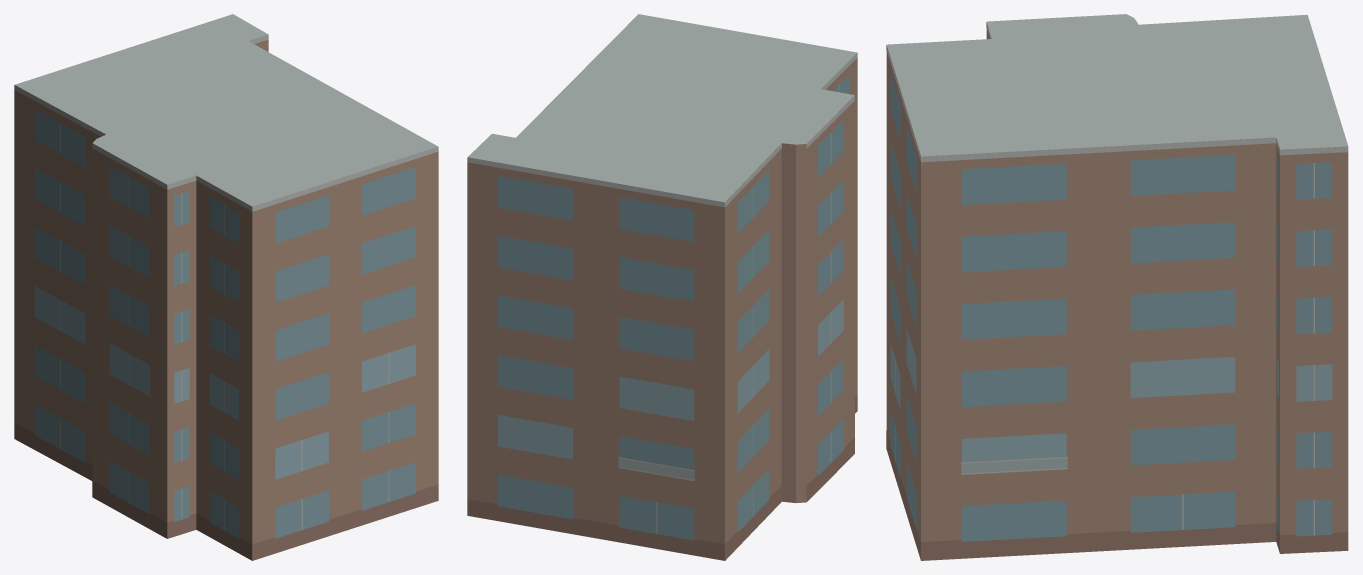
The model's file is survey-upis-32719551.glb.
3 views of the same model, side by side, from view 1: azimuth 30°, elevation 25°; view 2: azimuth 150°, elevation 25°; view 3: azimuth 270°, elevation 25° (orthographic). The views are drawn at different scales.
Visible parts, largest first — view 1: survey-upis-32719551.tmp; view 2: survey-upis-32719551.tmp; view 3: survey-upis-32719551.tmp.
Part boxes in pixels (x1,y1,x2,y2): survey-upis-32719551.tmp: (14, 14, 438, 560); survey-upis-32719551.tmp: (467, 14, 857, 560); survey-upis-32719551.tmp: (886, 14, 1348, 560).
Size of the model in its own units: 13.06 by 17.25 by 17.87.
